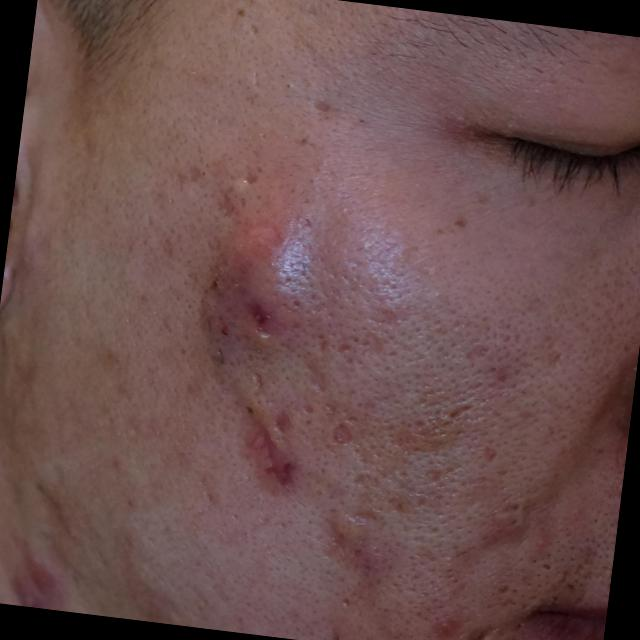blackhead: (244, 404, 254, 416), (292, 298, 301, 307), (512, 502, 520, 511), (510, 518, 518, 526), (542, 562, 550, 570), (237, 8, 244, 16), (286, 82, 292, 90), (358, 118, 364, 124), (300, 138, 306, 144), (200, 170, 206, 176), (532, 558, 536, 564)
nodule: (221, 224, 304, 330)
